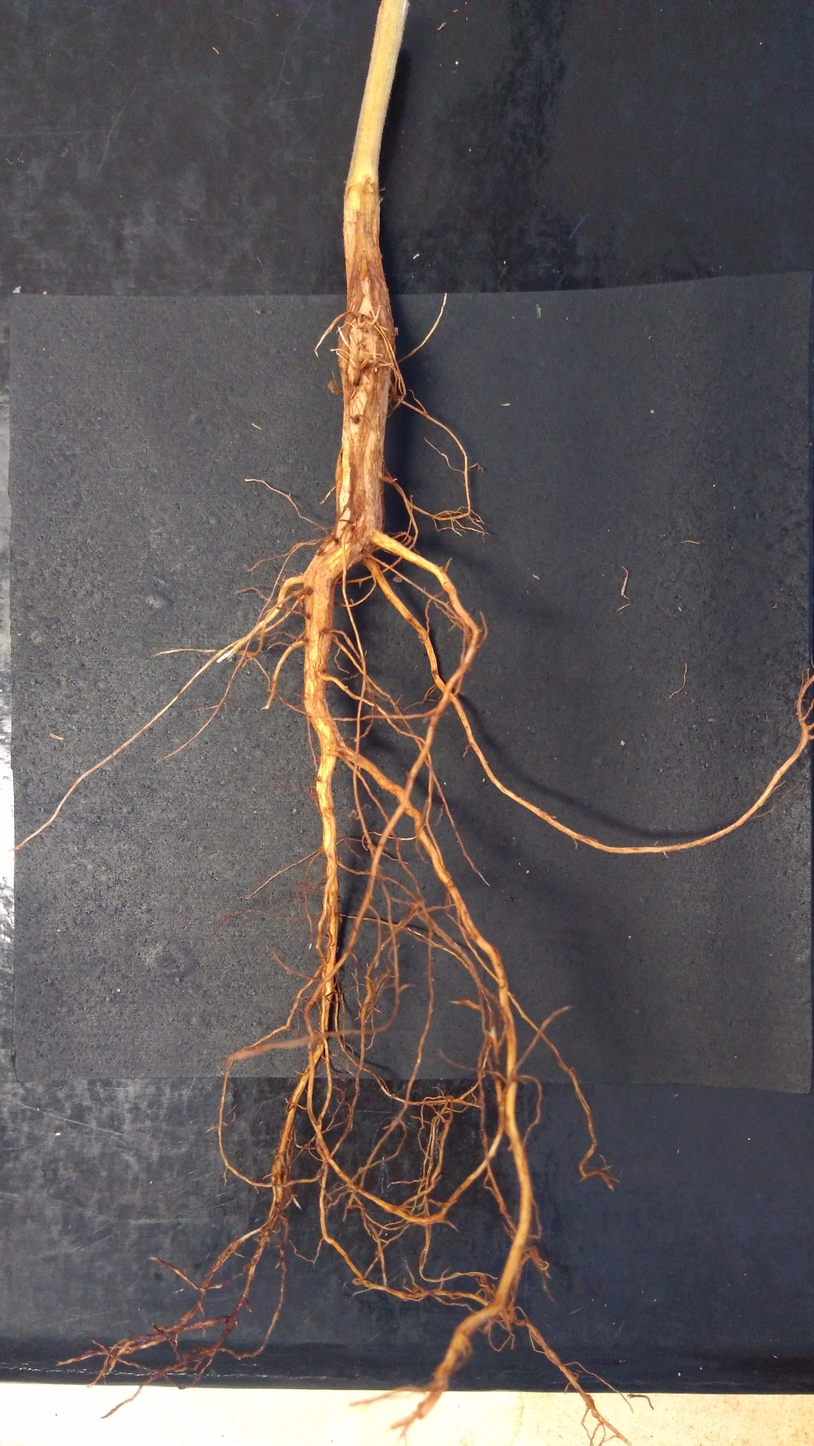nodule: (345, 322, 380, 369), (150, 1326, 167, 1341), (327, 379, 338, 395), (392, 574, 404, 583), (395, 327, 399, 336), (374, 367, 377, 373)
